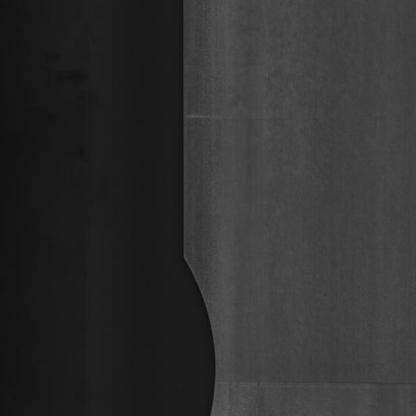crescent_gap: (164, 218, 225, 416)
welding_line: (212, 371, 416, 400)
